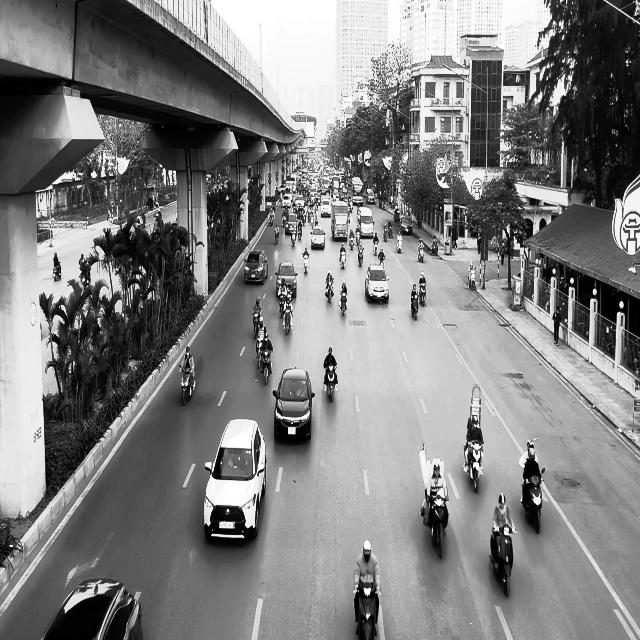car: (204, 418, 266, 540), (41, 578, 143, 640), (273, 367, 315, 441), (365, 264, 390, 303), (275, 261, 298, 298), (244, 250, 268, 284), (310, 225, 326, 250), (400, 215, 413, 234)
motorbike: (489, 523, 515, 597), (422, 493, 449, 559), (521, 467, 546, 534), (354, 582, 380, 640), (464, 439, 484, 493), (180, 368, 195, 406), (324, 362, 338, 402), (260, 346, 273, 384), (79, 255, 91, 286), (283, 304, 293, 336), (339, 291, 348, 316), (468, 267, 477, 290), (411, 294, 419, 319), (52, 261, 62, 281), (326, 278, 334, 303), (419, 282, 427, 306), (302, 251, 310, 273), (339, 250, 346, 269), (358, 245, 364, 266), (274, 225, 280, 243), (397, 234, 402, 253), (432, 242, 438, 255)
